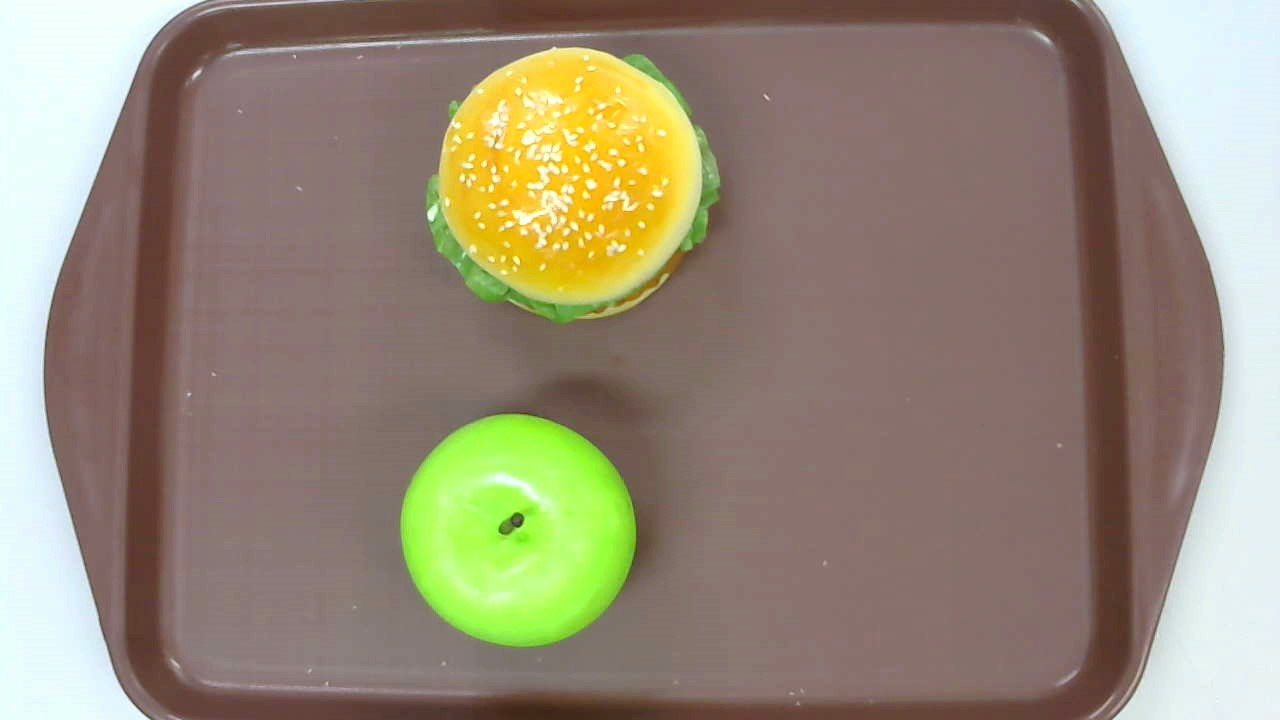green apple: (398, 413, 637, 648)
hamburger: (424, 47, 722, 321)
